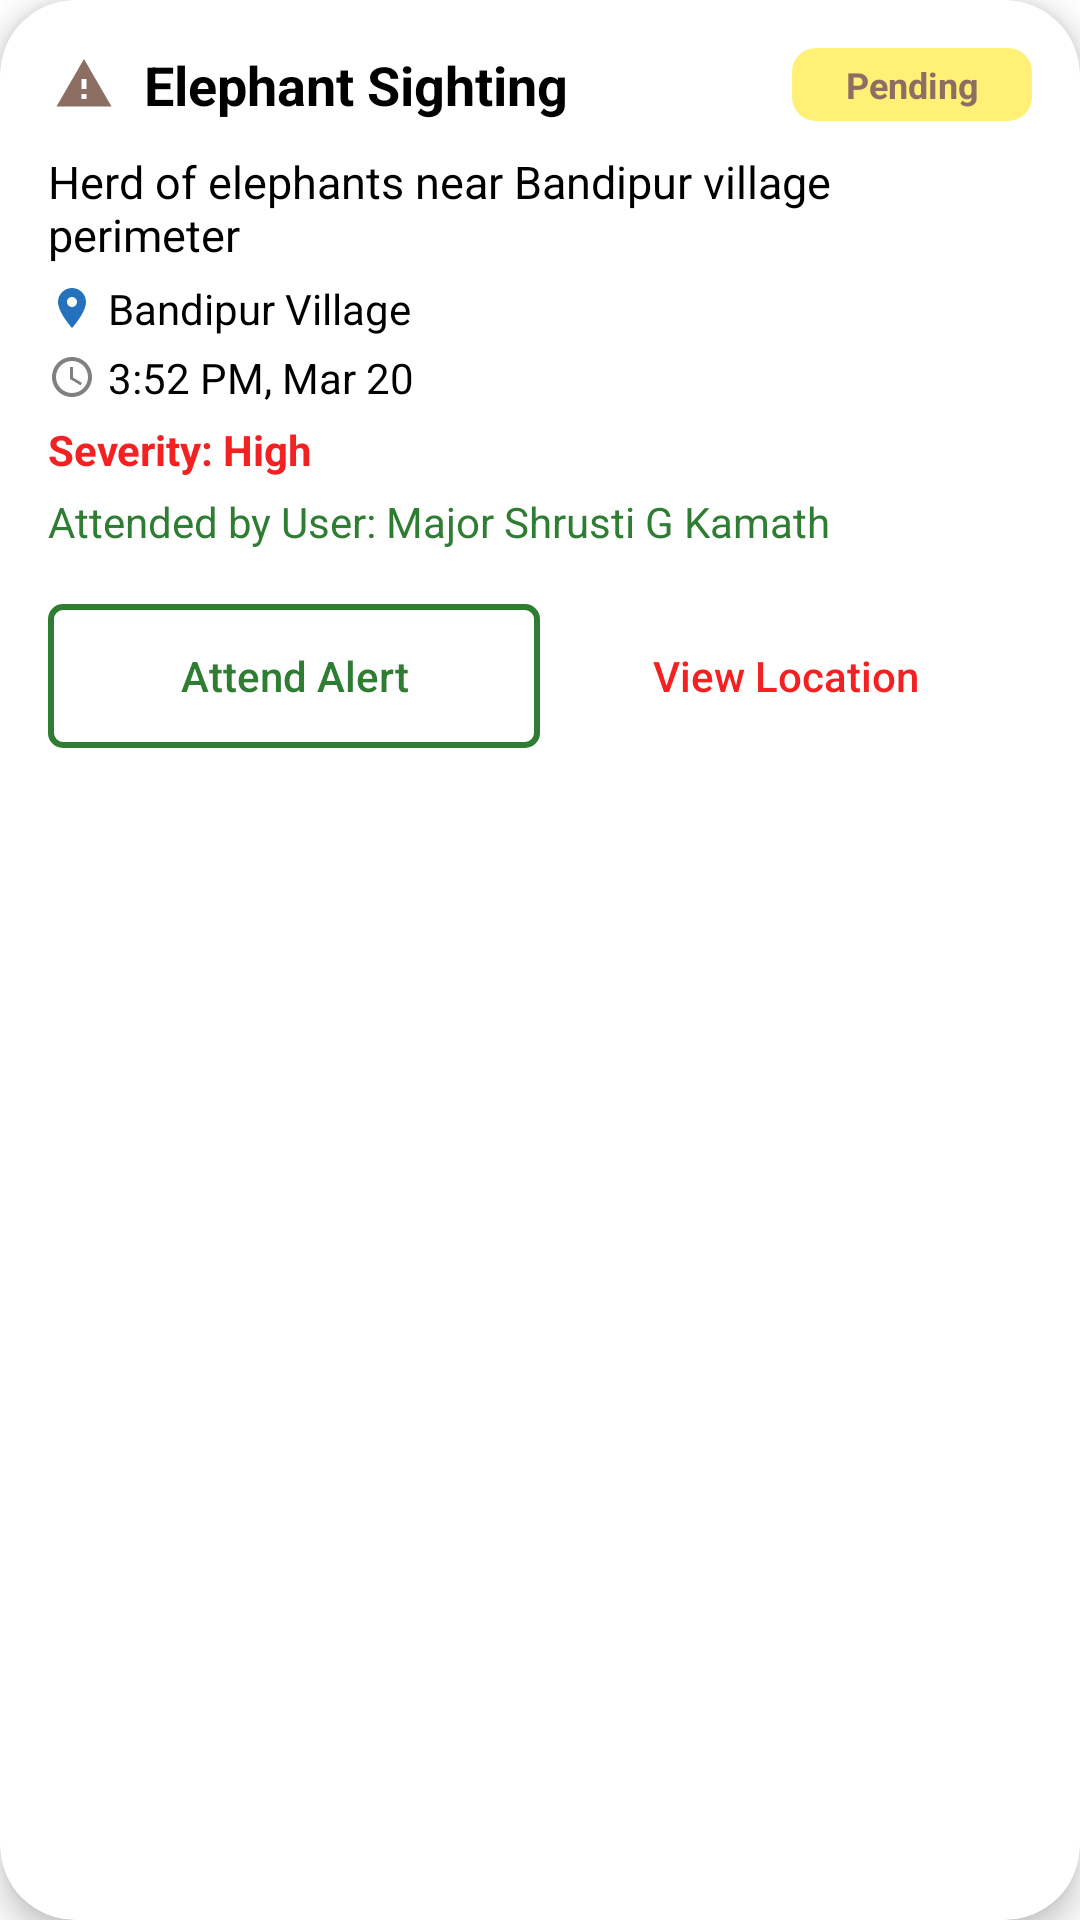

Named icons in this screenshot (1080px x 1920px) and their centers, [x,y]:
access time: [72,377]
location on: [72,308]
warning: [84,83]
